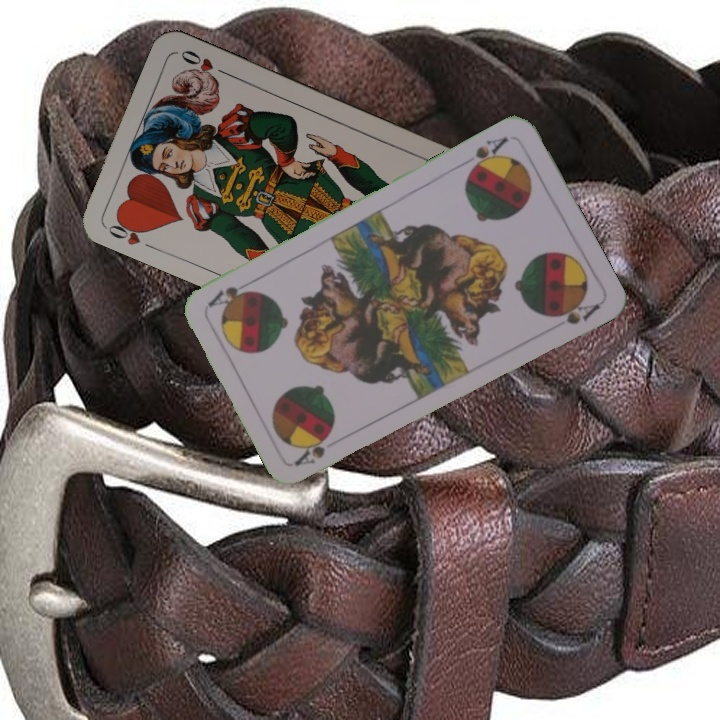HO: (102, 213, 154, 248)
SA: (464, 133, 511, 176), (291, 433, 332, 469)
